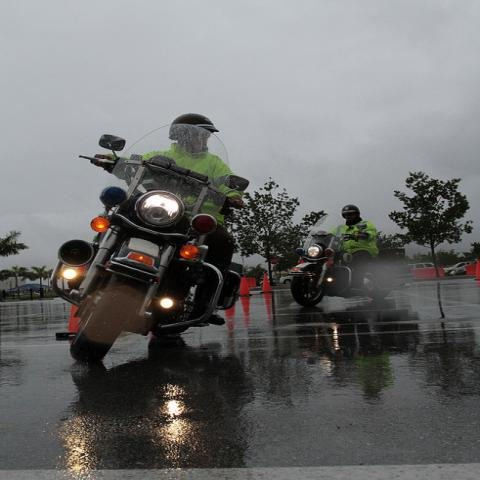car: (443, 262, 472, 275), (401, 264, 426, 270), (279, 276, 293, 284)
motorcycle: (47, 134, 251, 363), (286, 212, 412, 308)
